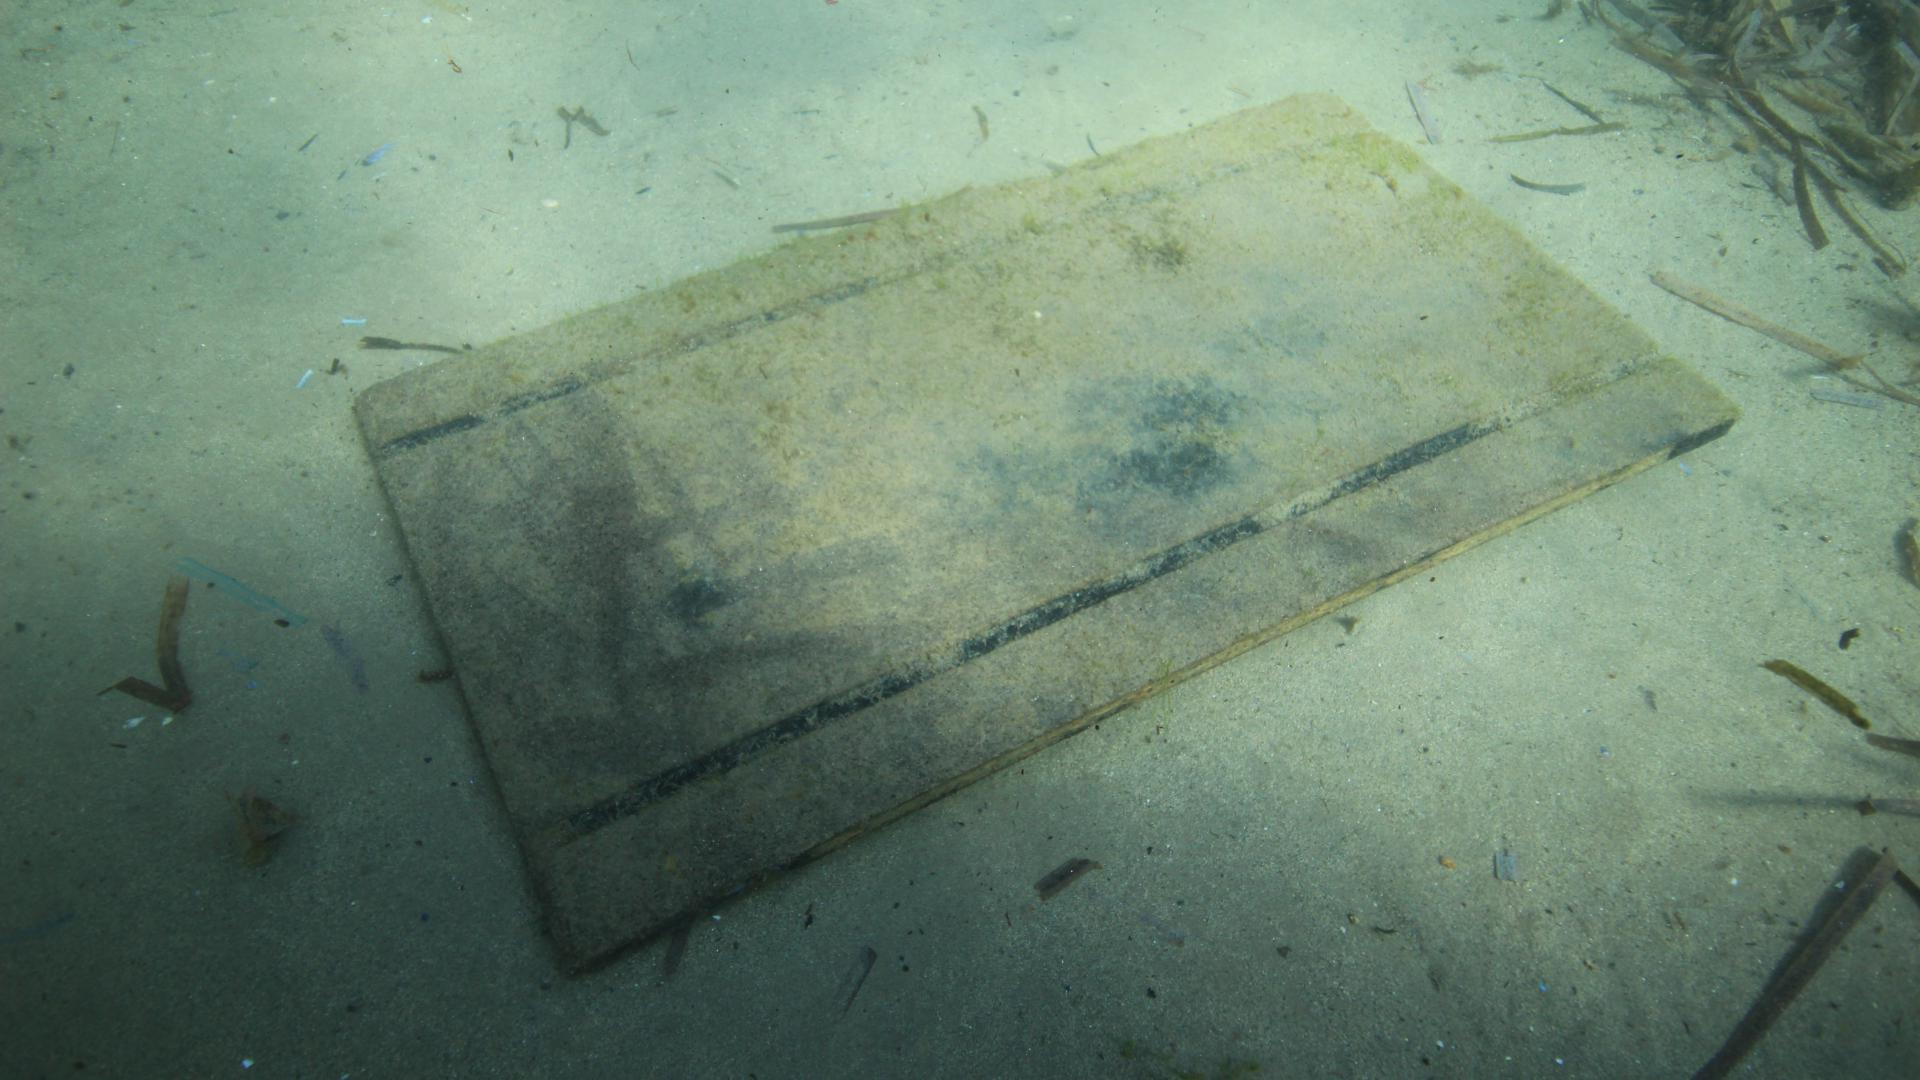wood: (355, 88, 1735, 971)
